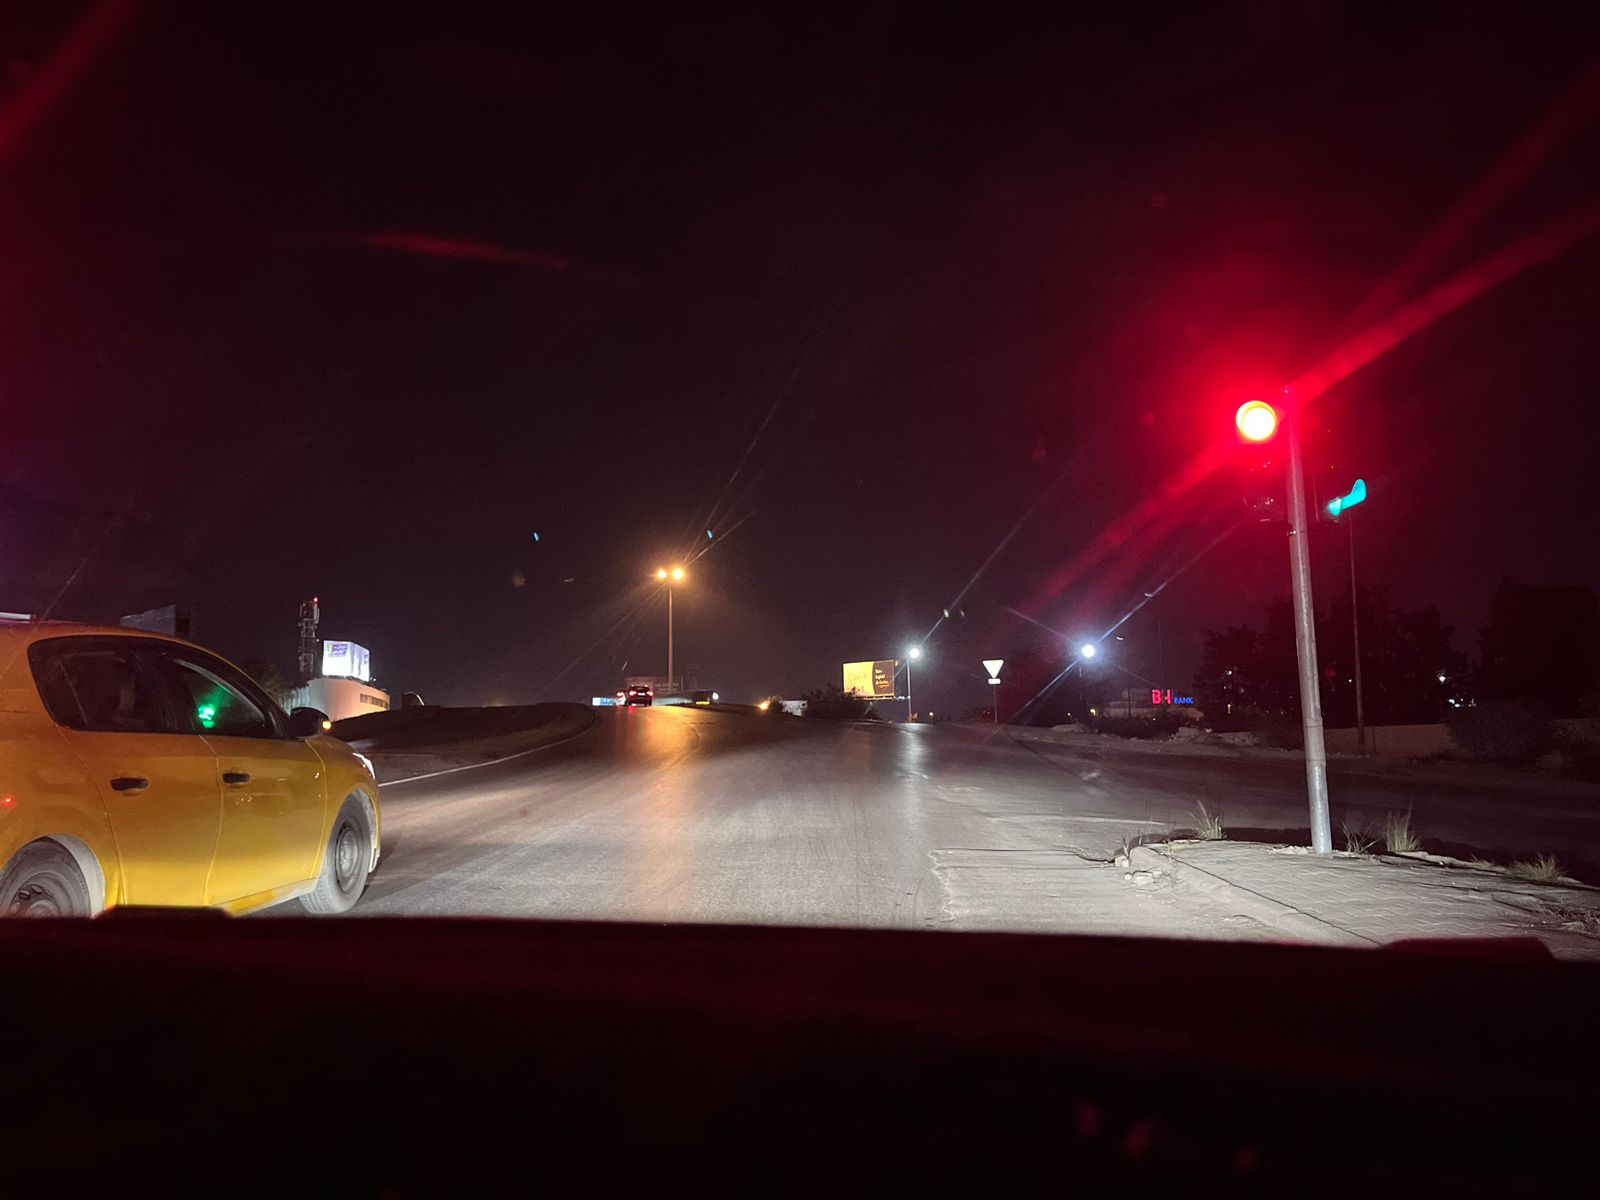RedLight: (1228, 398, 1290, 532)
